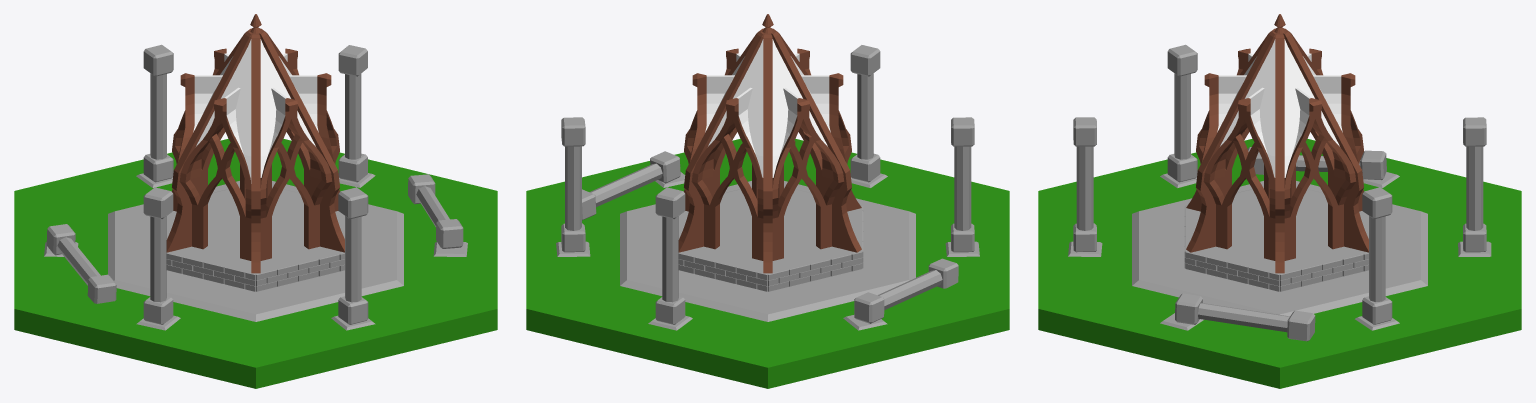
The model's file is ElfShrine.fbx.
The picture shows the model from 3 angles, left to right: view 1: azimuth 30°, elevation 25°; view 2: azimuth 150°, elevation 25°; view 3: azimuth 270°, elevation 25°; orthographic projection.
Parts seen in each view (by area): view 1: ElfShrine; view 2: ElfShrine; view 3: ElfShrine.
Boxes of the visible parts, left/top/right/bottom form: ElfShrine: left=14, top=14, right=497, bottom=388; ElfShrine: left=526, top=14, right=1009, bottom=388; ElfShrine: left=1038, top=14, right=1521, bottom=388.
Bounding box in the file's own units: 1192 × 1032 × 605.
